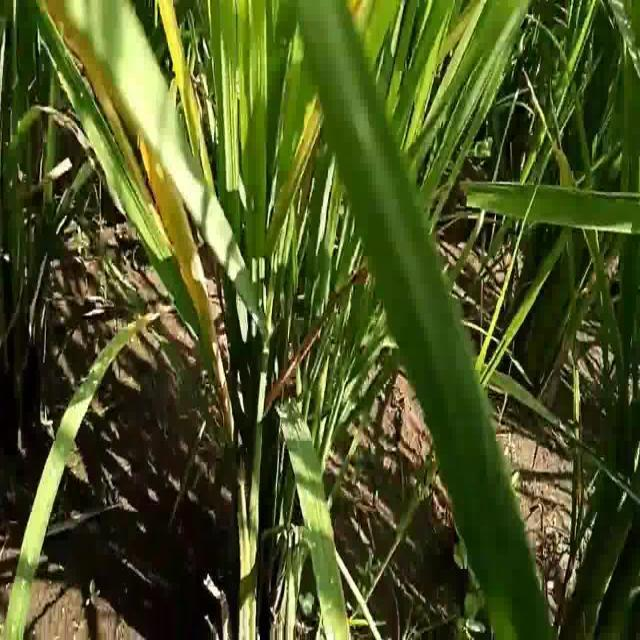Rice Tungro: (135, 125, 221, 359), (156, 4, 215, 162)
